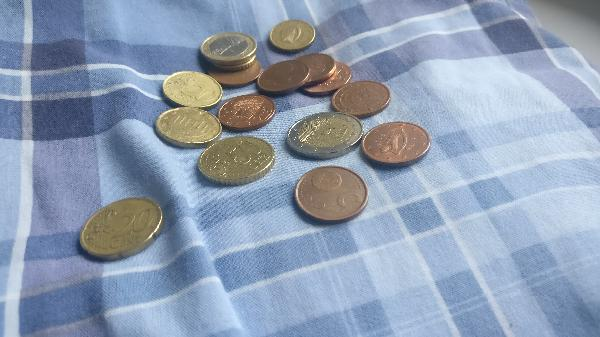Fifty Cent: (200, 134, 274, 191)
Five Cent: (300, 166, 368, 222), (366, 122, 434, 165), (329, 81, 399, 118), (305, 54, 352, 97), (223, 95, 276, 133), (256, 61, 310, 95), (284, 54, 337, 85), (207, 59, 258, 86)
One Euro: (200, 31, 257, 63)
Ten Cent: (268, 17, 318, 52)
Twenty Cent: (79, 195, 172, 257), (156, 107, 225, 146), (163, 70, 222, 109)
Two Euro: (286, 108, 365, 158)
